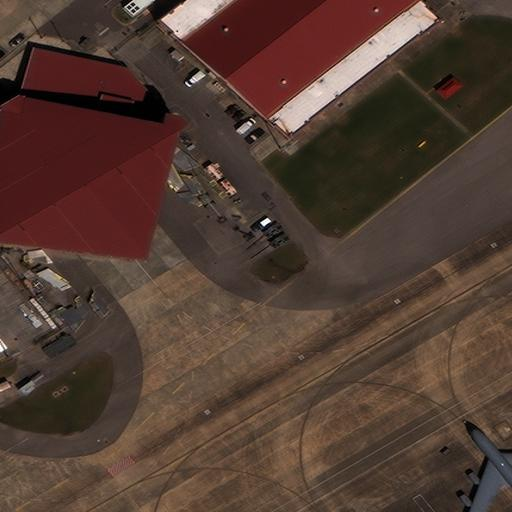Military Transport: (463, 424, 512, 511)
